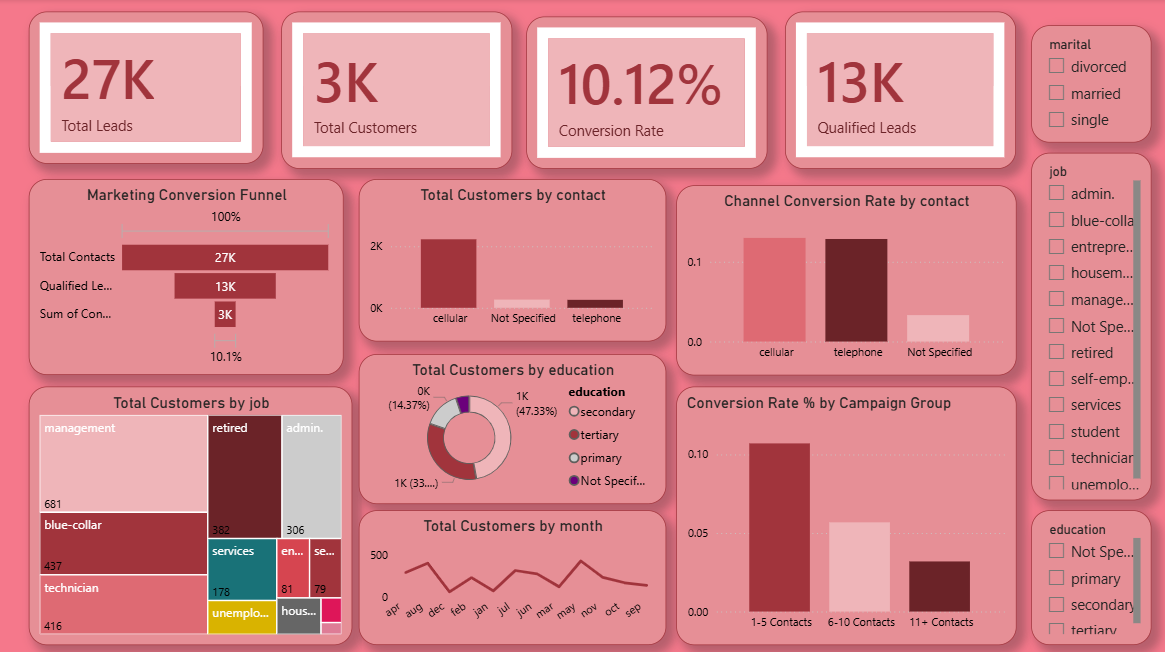

This screenshot's page, from the dashboard's own definition file:
{"tool":"powerbi","page":{"name":"Dashboard","canvas":[1280,720],"ordinal":0},"visuals":[{"type":"cardVisual","fields":{"Data":["bank-full.Total Customers"]},"box":[308.7,13.7,253.9,172.9],"z":0},{"type":"cardVisual","fields":{"Data":["bank-full.Conversion Rate"]},"box":[577.7,19.2,264.8,167.4],"z":1000},{"type":"cardVisual","fields":{"Data":["bank-full.Total Leads"]},"box":[31.6,13.7,258,167.4],"z":2000},{"type":"cardVisual","fields":{"Data":["bank-full.Qualified Leads"]},"box":[861.8,13.7,253.9,172.9],"z":3000},{"type":"funnel","title":"Marketing Conversion Funnel","fields":{"Y":["bank-full.Total Contacts","bank-full.Qualified Leads","Sum(bank-full.Converted)"]},"box":[31.6,197.6,345.8,215.4],"z":4000},{"type":"clusteredColumnChart","fields":{"Category":["bank-full.contact"],"Y":["bank-full.Total Customers"]},"box":[393.8,197.6,337.6,178.4],"z":5000},{"type":"treemap","fields":{"Group":["bank-full.job"],"Values":["bank-full.Total Customers"]},"box":[31.6,425.4,355.4,284],"z":6000},{"type":"donutChart","fields":{"Y":["bank-full.Total Customers"],"Category":["bank-full.education"]},"box":[393.8,389.7,337.6,164.7],"z":7000},{"type":"lineChart","fields":{"Category":["bank-full.month"],"Y":["bank-full.Total Customers"]},"box":[393.8,561.2,337.6,148.2],"z":8000},{"type":"clusteredColumnChart","fields":{"Category":["bank-full.contact"],"Y":["bank-full.Channel Conversion Rate"]},"box":[742.4,204.5,373.2,208.6],"z":9000},{"type":"clusteredColumnChart","fields":{"Category":["bank-full.Campaign Group"],"Y":["bank-full.Conversion Rate %"]},"box":[742.4,425.4,373.2,284],"z":10000},{"type":"slicer","fields":{"Values":["bank-full.marital"]},"box":[1132.1,28.8,131.7,129],"z":11000},{"type":"slicer","fields":{"Values":["bank-full.job"]},"box":[1132.1,168.8,131.7,381.5],"z":12000},{"type":"slicer","fields":{"Values":["bank-full.education"]},"box":[1132.1,561.2,131.7,148.2],"z":13000}]}

Visuals, with their boxes in screenshot pixels (x1, y1, x2, y2), scaled from the page's 1280x720 canvas onto the 1165x652 screenshot:
cardVisual - bank-full.Total Customers: bbox=(281, 12, 512, 169)
cardVisual - bank-full.Conversion Rate: bbox=(526, 17, 767, 169)
cardVisual - bank-full.Total Leads: bbox=(29, 12, 264, 164)
cardVisual - bank-full.Qualified Leads: bbox=(784, 12, 1015, 169)
"Marketing Conversion Funnel" funnel: bbox=(29, 179, 343, 374)
clusteredColumnChart - bank-full.contact x bank-full.Total Customers: bbox=(358, 179, 666, 340)
treemap - bank-full.job x bank-full.Total Customers: bbox=(29, 385, 352, 642)
donutChart - bank-full.Total Customers x bank-full.education: bbox=(358, 353, 666, 502)
lineChart - bank-full.month x bank-full.Total Customers: bbox=(358, 508, 666, 642)
clusteredColumnChart - bank-full.contact x bank-full.Channel Conversion Rate: bbox=(676, 185, 1015, 374)
clusteredColumnChart - bank-full.Campaign Group x bank-full.Conversion Rate %: bbox=(676, 385, 1015, 642)
slicer - bank-full.marital: bbox=(1030, 26, 1150, 143)
slicer - bank-full.job: bbox=(1030, 153, 1150, 498)
slicer - bank-full.education: bbox=(1030, 508, 1150, 642)
